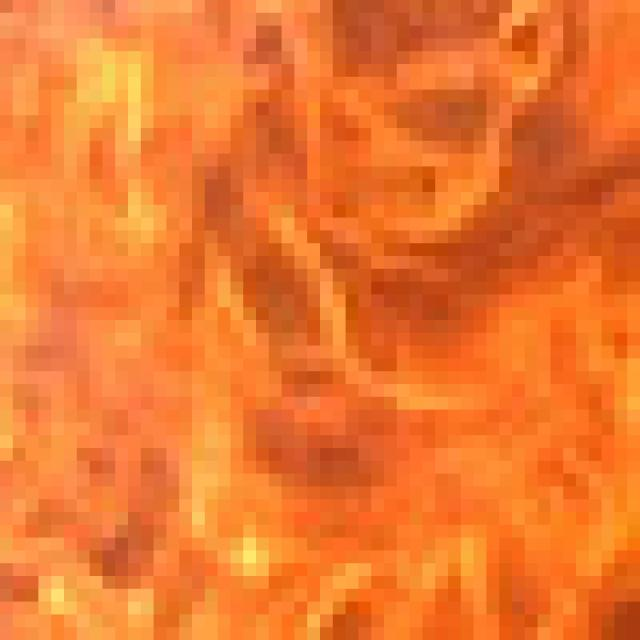fire: (6, 2, 640, 634)
